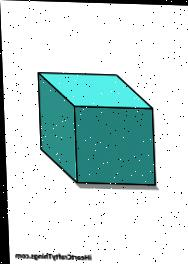cube: (35, 73, 155, 185)
